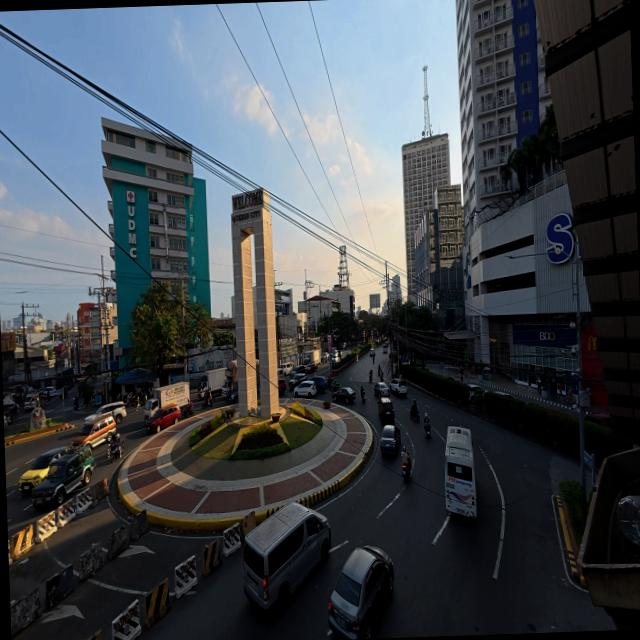bus: (445, 427, 476, 518)
car: (328, 546, 394, 639), (32, 445, 94, 508), (19, 448, 65, 492), (146, 405, 181, 432), (85, 401, 126, 424), (381, 425, 401, 453), (378, 397, 394, 423), (585, 413, 610, 428), (294, 381, 316, 398), (332, 388, 356, 403), (390, 378, 407, 397), (289, 373, 306, 390), (468, 384, 485, 401), (311, 376, 327, 393), (374, 382, 389, 397), (494, 390, 515, 399), (42, 385, 55, 397), (229, 388, 238, 403), (292, 365, 306, 374), (305, 363, 316, 374), (49, 390, 63, 398), (279, 378, 286, 394), (331, 352, 340, 363), (320, 352, 329, 362), (383, 345, 388, 354), (370, 349, 375, 357), (342, 343, 346, 349)
motorcycle: (107, 434, 123, 462), (180, 400, 194, 418), (202, 396, 212, 409), (403, 464, 410, 482), (410, 409, 420, 421), (331, 381, 340, 392), (424, 423, 431, 437), (124, 396, 132, 407), (73, 400, 78, 411), (361, 391, 365, 403), (369, 371, 373, 383), (379, 373, 384, 381), (373, 357, 374, 364)
trucks: (144, 383, 189, 421), (198, 368, 225, 399), (304, 349, 321, 365)
vans: (244, 503, 330, 609), (73, 413, 116, 447), (24, 394, 39, 411), (279, 362, 293, 376)
